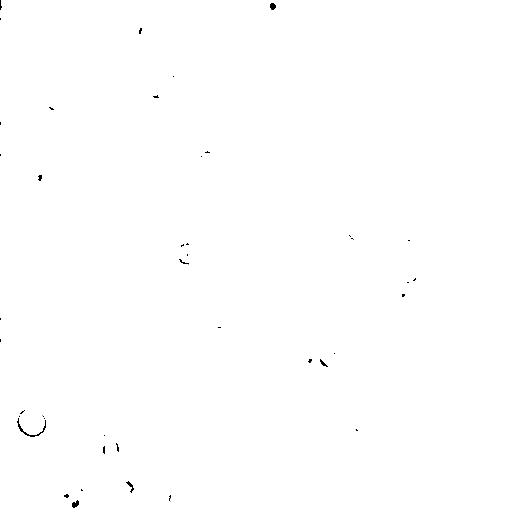micro-algae: (204, 353, 274, 429), (0, 73, 62, 134), (305, 287, 352, 341), (373, 114, 419, 165), (130, 0, 195, 31), (83, 67, 117, 105), (391, 227, 427, 260), (16, 406, 47, 439), (406, 265, 439, 296), (344, 409, 378, 438), (295, 59, 326, 90), (57, 419, 85, 451), (168, 60, 199, 88), (204, 127, 235, 155), (357, 59, 382, 93), (294, 345, 320, 376), (193, 149, 223, 175), (265, 109, 296, 133), (396, 321, 422, 348), (97, 415, 126, 439), (195, 487, 224, 511), (263, 460, 293, 483), (67, 474, 92, 501), (420, 0, 455, 19), (137, 22, 165, 45), (165, 485, 189, 511), (387, 281, 415, 303), (255, 0, 285, 20), (388, 390, 411, 415), (41, 29, 63, 55), (112, 46, 136, 69), (175, 241, 198, 265), (195, 314, 213, 342), (115, 477, 138, 497), (319, 346, 339, 367), (0, 95, 13, 127), (57, 492, 81, 509), (83, 451, 103, 471), (45, 93, 66, 111), (349, 305, 370, 323), (103, 439, 119, 462), (128, 301, 146, 321), (349, 222, 369, 240), (1, 1, 23, 17), (31, 56, 49, 71), (26, 169, 45, 183), (53, 1, 74, 9)
